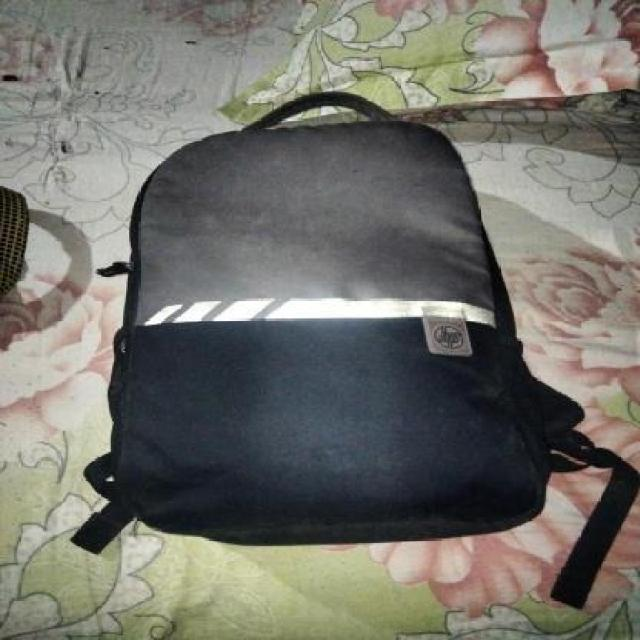backpack: (80, 88, 589, 554)
